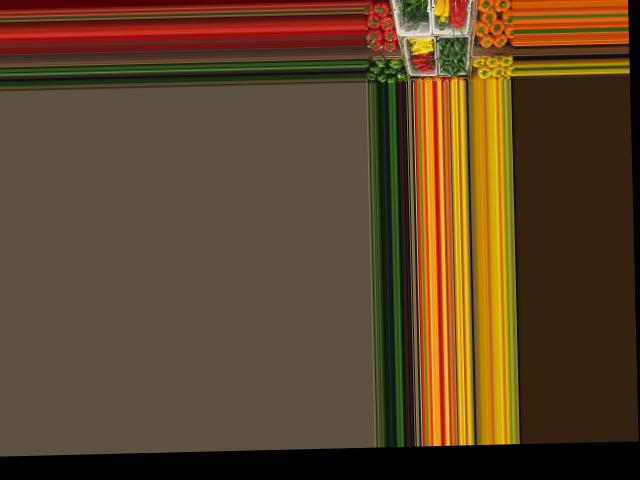bell_pepper: (374, 56, 388, 71)
